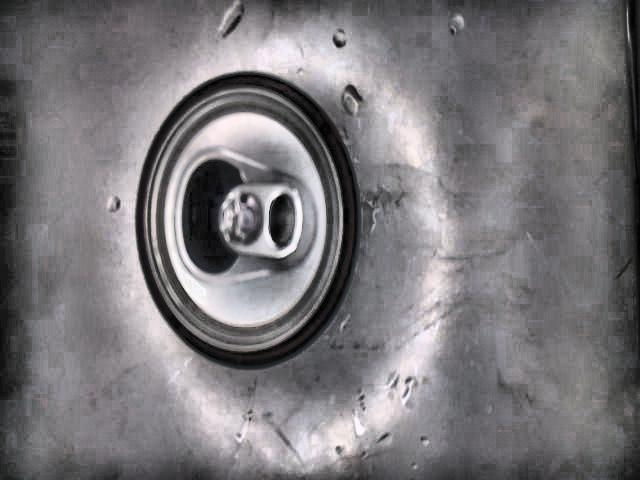Bottles: (137, 72, 358, 364)
